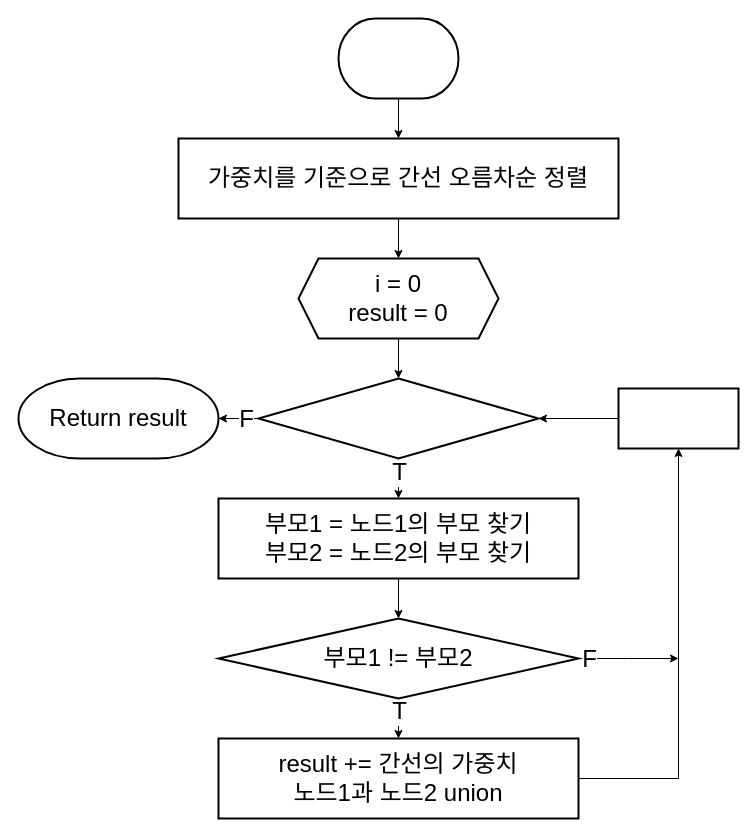
The diagram is 756 pixels wide and 836 high, and some of its shapes have lost their labels. Here are the shapes that lost their labels. From the top down, the centre of each, then its label:
At (x=398, y=58): "Start".
At (x=398, y=418): "i < 간선 개수".
At (x=678, y=418): "i++".
